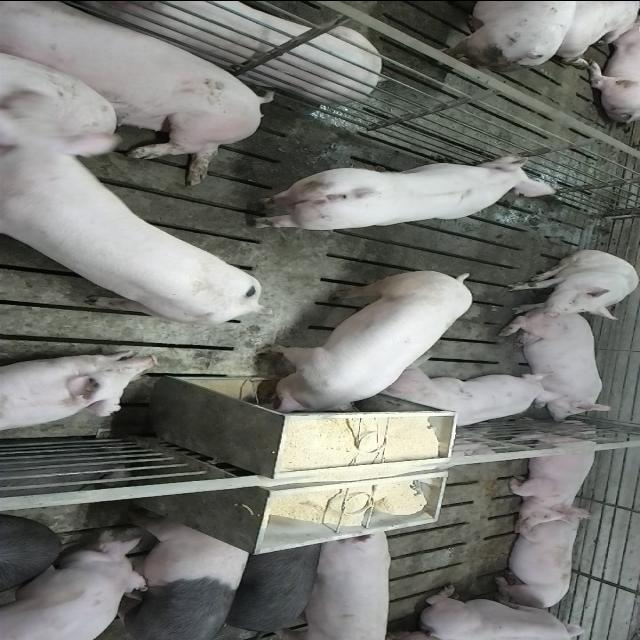Feeding: (250, 272, 474, 420)
Lateral_lying: (6, 2, 278, 188), (50, 1, 384, 102)
Sitting: (502, 249, 638, 319)
Standing: (5, 138, 274, 329), (242, 152, 560, 230), (75, 516, 256, 638), (0, 530, 155, 638), (282, 522, 394, 638), (218, 536, 325, 638)
Sternal_lying: (0, 350, 158, 433), (504, 314, 616, 424), (377, 368, 557, 430), (408, 584, 598, 638), (506, 425, 604, 524), (492, 511, 588, 610)
